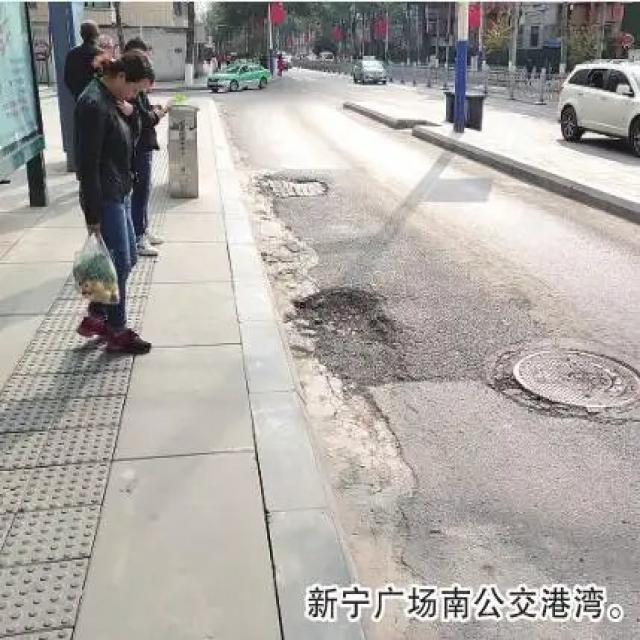Pothole: (283, 284, 412, 384), (486, 346, 638, 424), (258, 177, 330, 200)
